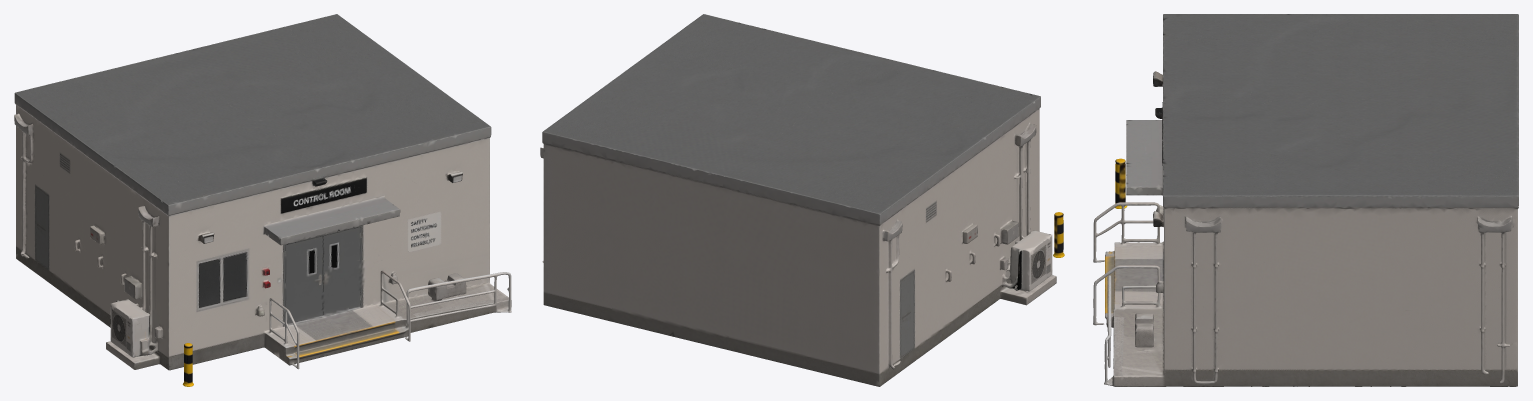
Rendered from Meshy_AI_Industrial_Control_Hu_0912072421_texture.glb.
The picture shows the model from 3 angles, left to right: view 1: azimuth 30°, elevation 25°; view 2: azimuth 150°, elevation 25°; view 3: azimuth 270°, elevation 25°; orthographic projection. The views are drawn at different scales.
Bounding box in the file's own units: 1.9 × 0.8564 × 1.72.
Materials: 1 (1 with a texture image).
